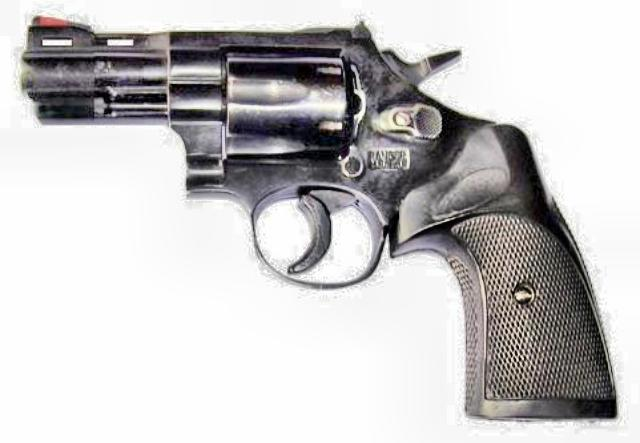pistol: (20, 14, 618, 418)
